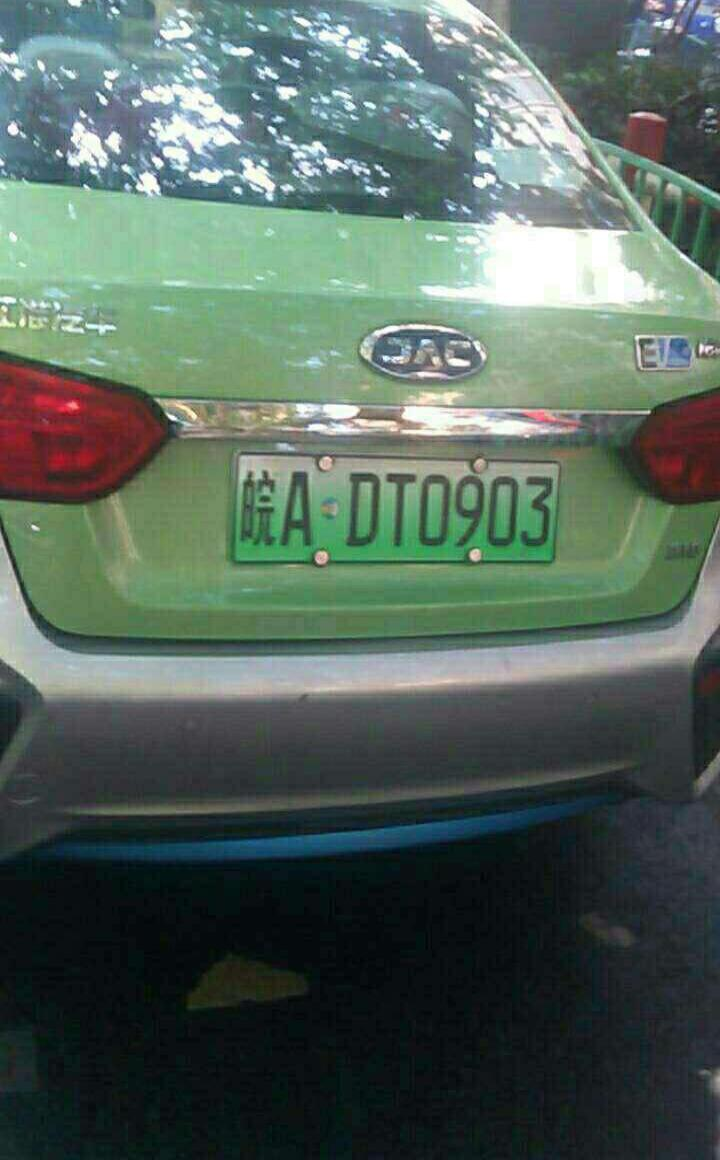car_id: (235, 454, 559, 563)
